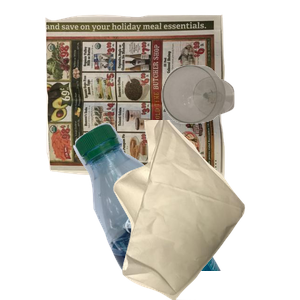glass: (159, 63, 300, 179)
paper: (42, 12, 260, 185)
plastic: (71, 120, 300, 300)
trash: (111, 120, 300, 300)
